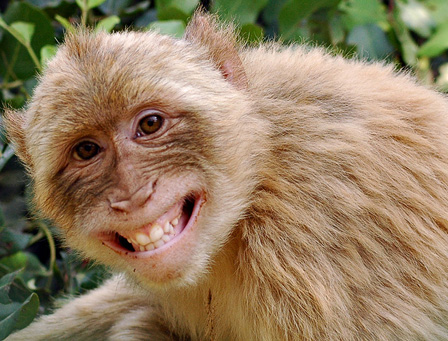monkey: (5, 24, 447, 341)
